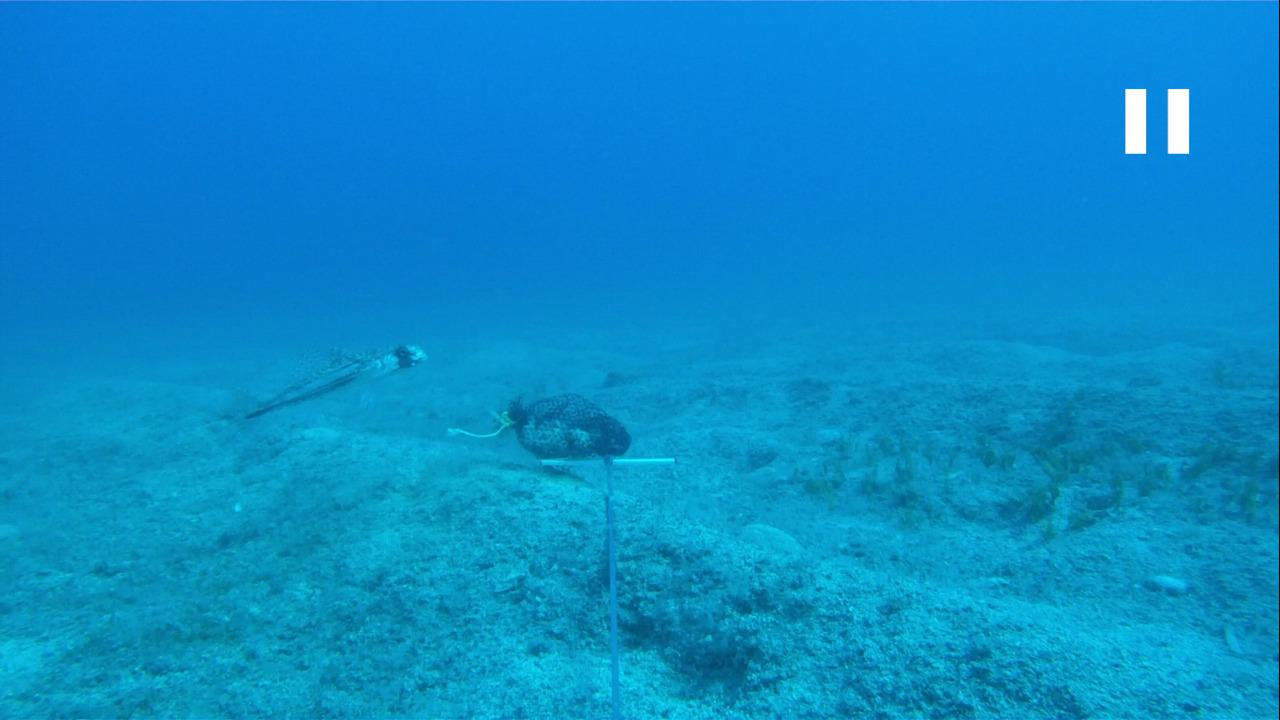dactylopterus: (206, 338, 434, 438)
